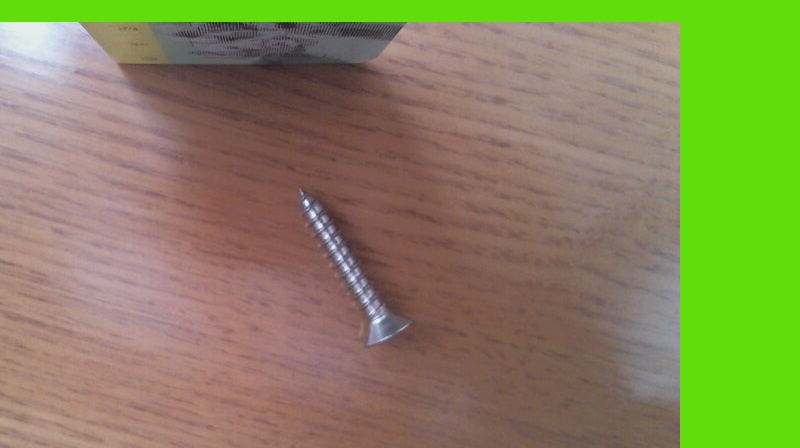S001: (290, 179, 414, 350)
